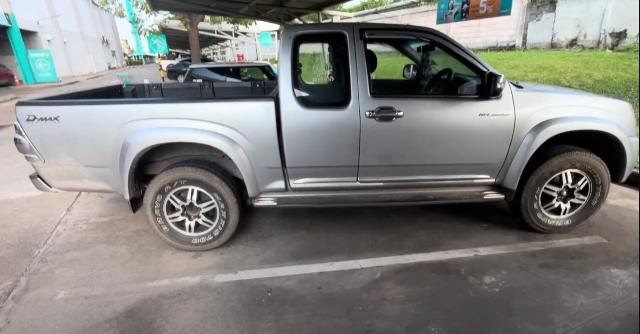pickup-truck: (14, 19, 639, 251)
